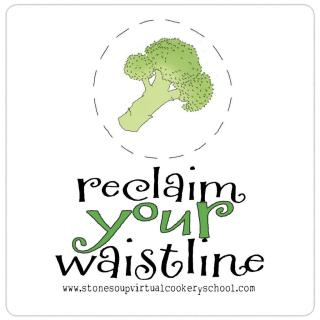Broccoli: (119, 37, 212, 134)
